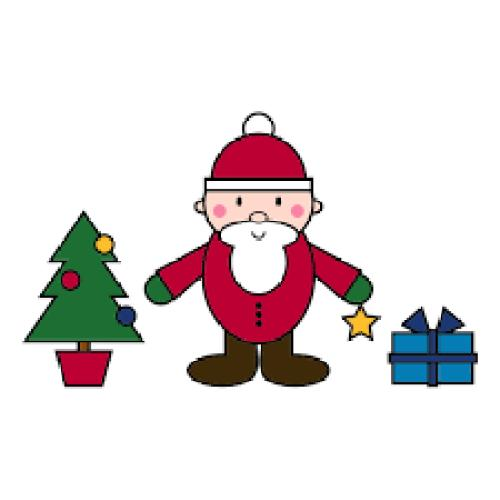Santa: (142, 111, 378, 391)
